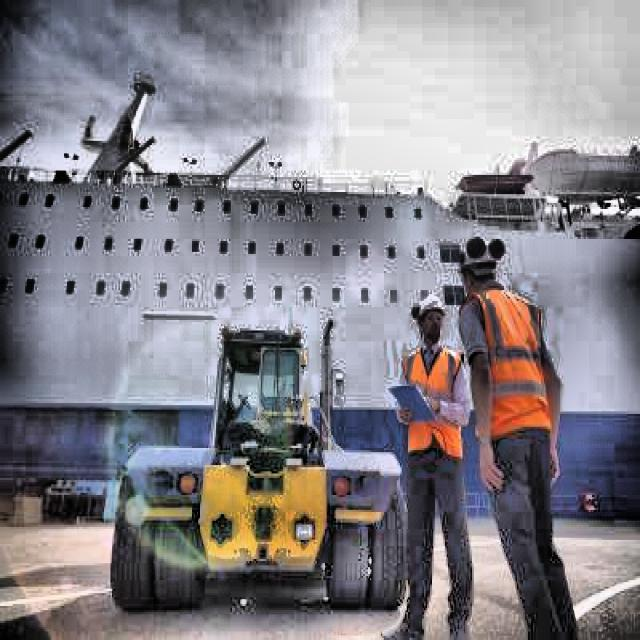helmet: (453, 228, 509, 294), (411, 273, 451, 346)
